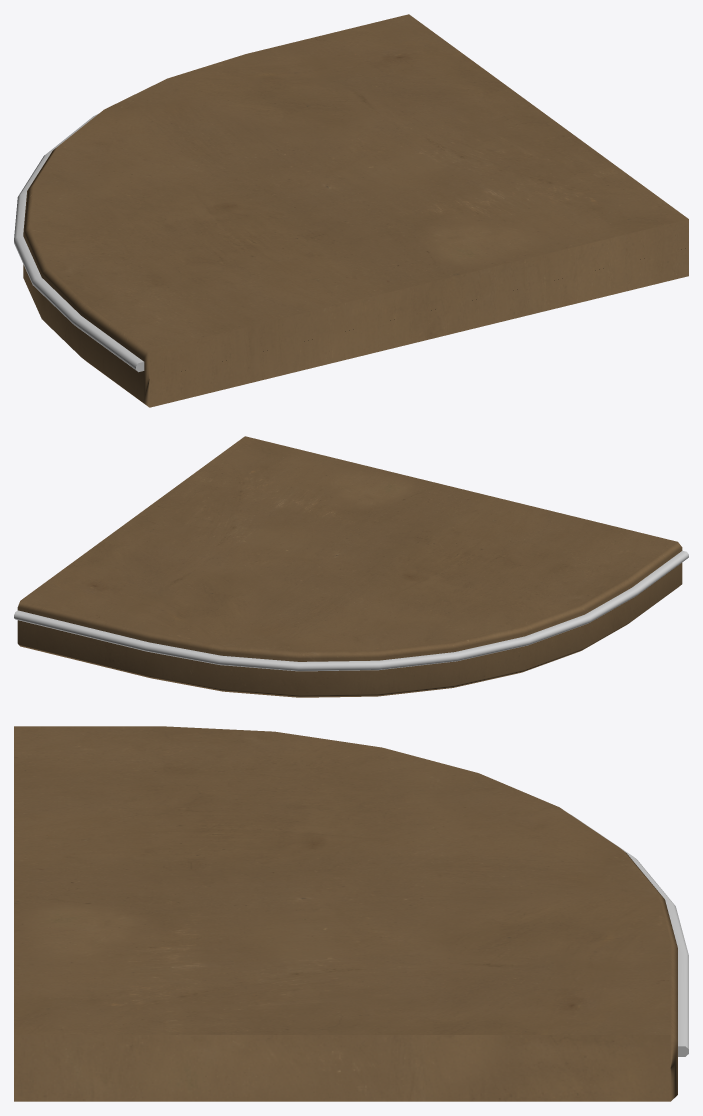
Rendered from SM_Building01GroundCanopy02R.fbx.
3 views of the same model, one above another, from view 1: azimuth 30°, elevation 25°; view 2: azimuth 150°, elevation 25°; view 3: azimuth 270°, elevation 25° (orthographic). The views are drawn at different scales.
Visible parts, largest first — view 1: SM_Building01GroundCanopy02R_LOD0; view 2: SM_Building01GroundCanopy02R_LOD0; view 3: SM_Building01GroundCanopy02R_LOD0.
Part boxes in pixels (left/top/right/bottom): SM_Building01GroundCanopy02R_LOD0: left=14, top=14, right=688, bottom=407; SM_Building01GroundCanopy02R_LOD0: left=14, top=436, right=688, bottom=697; SM_Building01GroundCanopy02R_LOD0: left=14, top=726, right=688, bottom=1101.
Size of the model in its own units: 203 by 183 by 20.
2 materials, 1 textured.
